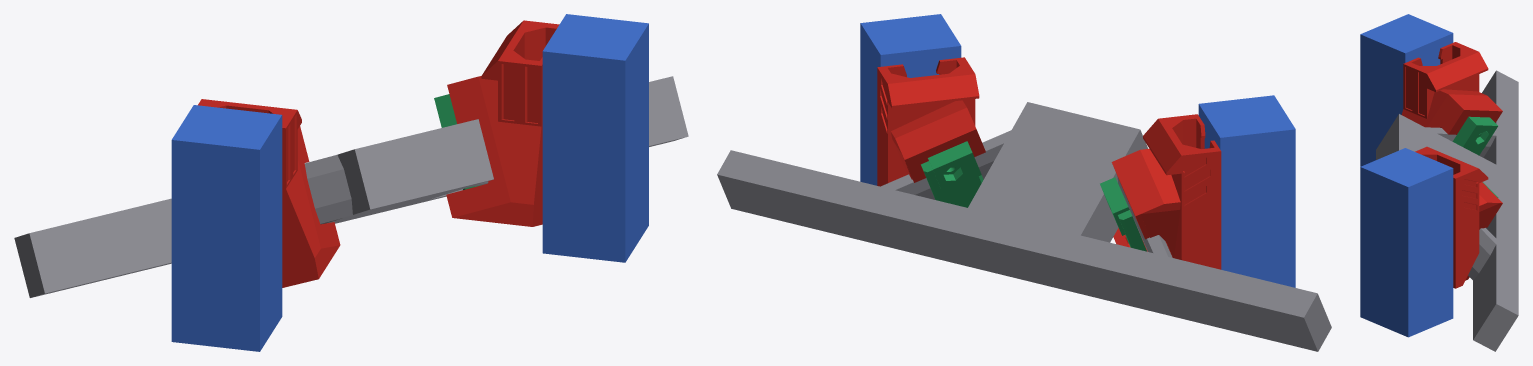
Rendered from assembly_m20.obj.
3 renders of one model, left to right at view 1: azimuth 30°, elevation 25°; view 2: azimuth 150°, elevation 25°; view 3: azimuth 270°, elevation 25°, orthographic. The views are drawn at different scales.
Visible parts, largest first — view 1: left_light_placeholder, right_light_placeholder, hanger_schematic, right_saddle, left_saddle, right_keeper; view 2: hanger_schematic, left_light_placeholder, left_saddle, right_saddle, right_light_placeholder, right_keeper, left_keeper; view 3: right_light_placeholder, hanger_schematic, left_light_placeholder, left_saddle, right_saddle, left_keeper.
Part boxes in pixels (<box>): left_light_placeholder: <box>171,105,282,351</box>; right_light_placeholder: <box>542,14,648,262</box>; hanger_schematic: <box>14,76,688,297</box>; right_saddle: <box>446,20,559,226</box>; left_saddle: <box>198,99,340,287</box>; right_keeper: <box>434,94,481,189</box>; hanger_schematic: <box>717,102,1331,351</box>; left_light_placeholder: <box>1198,95,1295,287</box>; left_saddle: <box>1111,114,1221,269</box>; right_saddle: <box>877,57,985,186</box>; right_light_placeholder: <box>860,14,961,185</box>; right_keeper: <box>921,141,983,207</box>; left_keeper: <box>1100,177,1146,251</box>; right_light_placeholder: <box>1360,148,1453,337</box>; hanger_schematic: <box>1376,70,1518,351</box>; left_light_placeholder: <box>1360,14,1453,166</box>; left_saddle: <box>1401,42,1502,134</box>; right_saddle: <box>1415,146,1502,288</box>; left_keeper: <box>1452,116,1497,155</box>.
Bounding box in the file's own units: 260 × 78 × 74.52.
